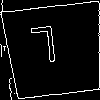L: (29, 25, 59, 74)
